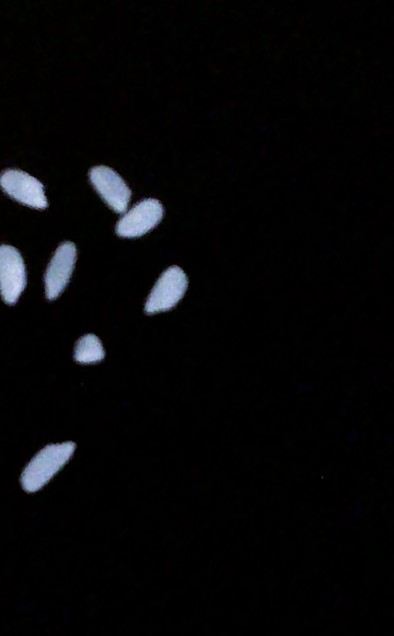broken_grain: (141, 262, 193, 322), (2, 166, 55, 216), (87, 162, 132, 213), (72, 330, 109, 366)
complete_grain: (19, 431, 81, 503), (106, 197, 169, 242), (43, 239, 81, 305), (1, 236, 28, 312)
